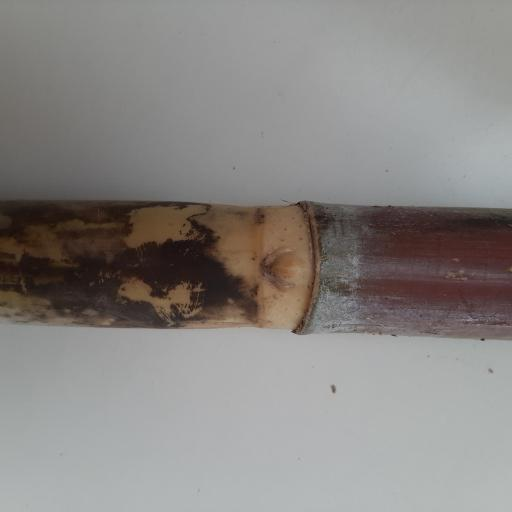Bud: (260, 247, 311, 291)
